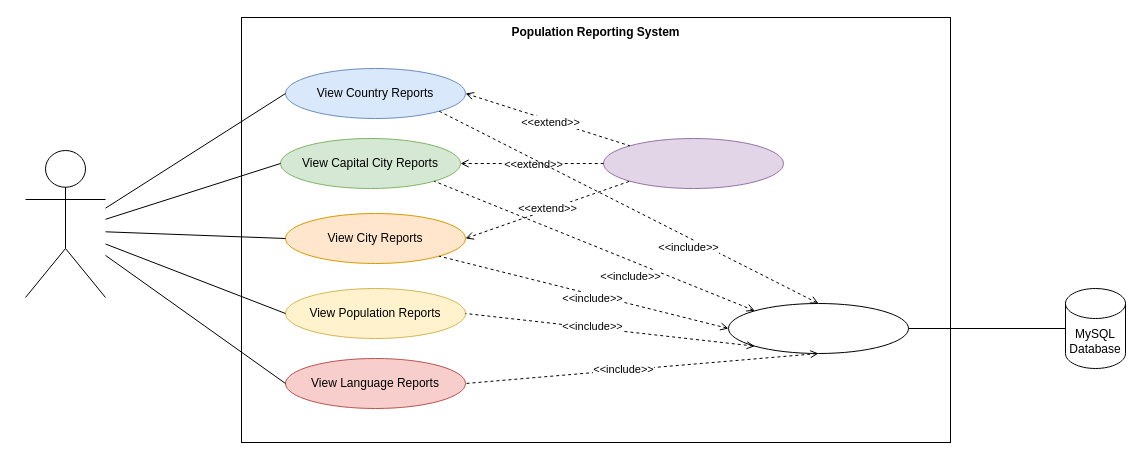
The diagram is 1143 pixels wide and 460 high, and some of its shapes have lost their labels. The shapes that lost their labels are listed below. From the top down, each one's box as (x1, y1, x2, y2) in pixels, then its label:
(602, 138, 784, 188): View Top-N Reports
(24, 150, 106, 298): Organization User
(728, 302, 908, 354): Retrieve Data from Database
